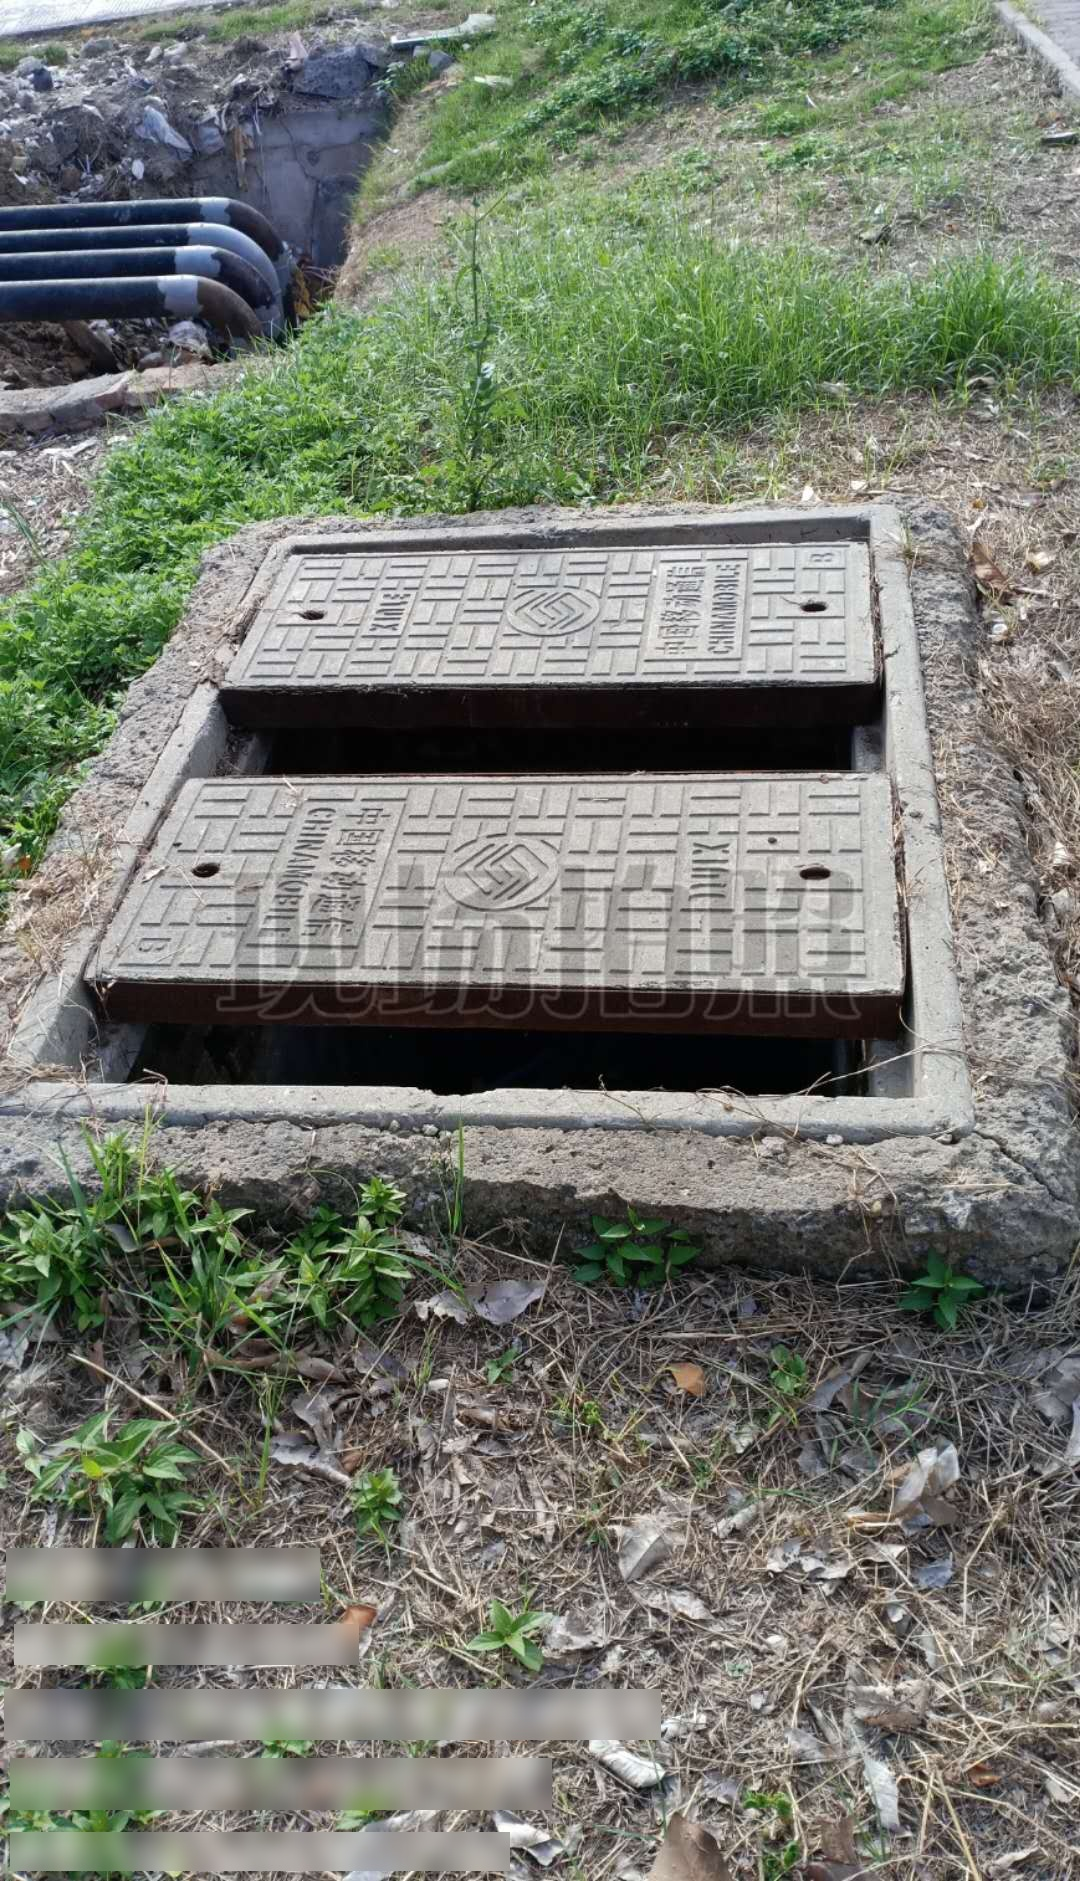lose: (3, 501, 973, 1146)
